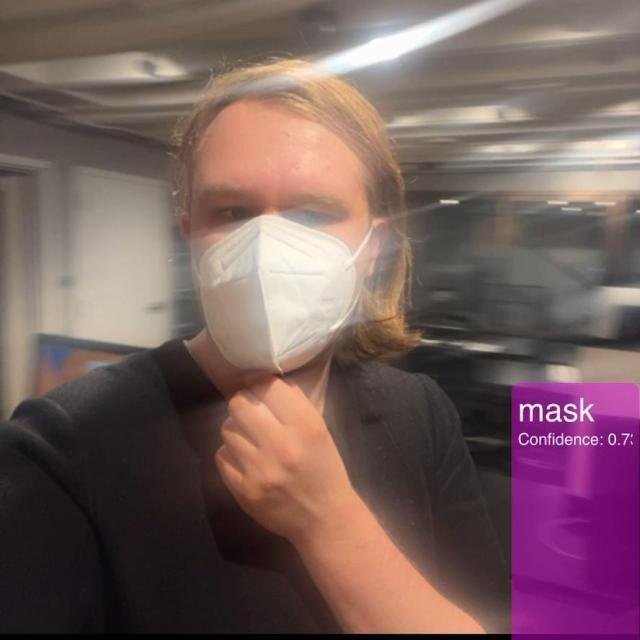no-helmet: (166, 54, 421, 382)
